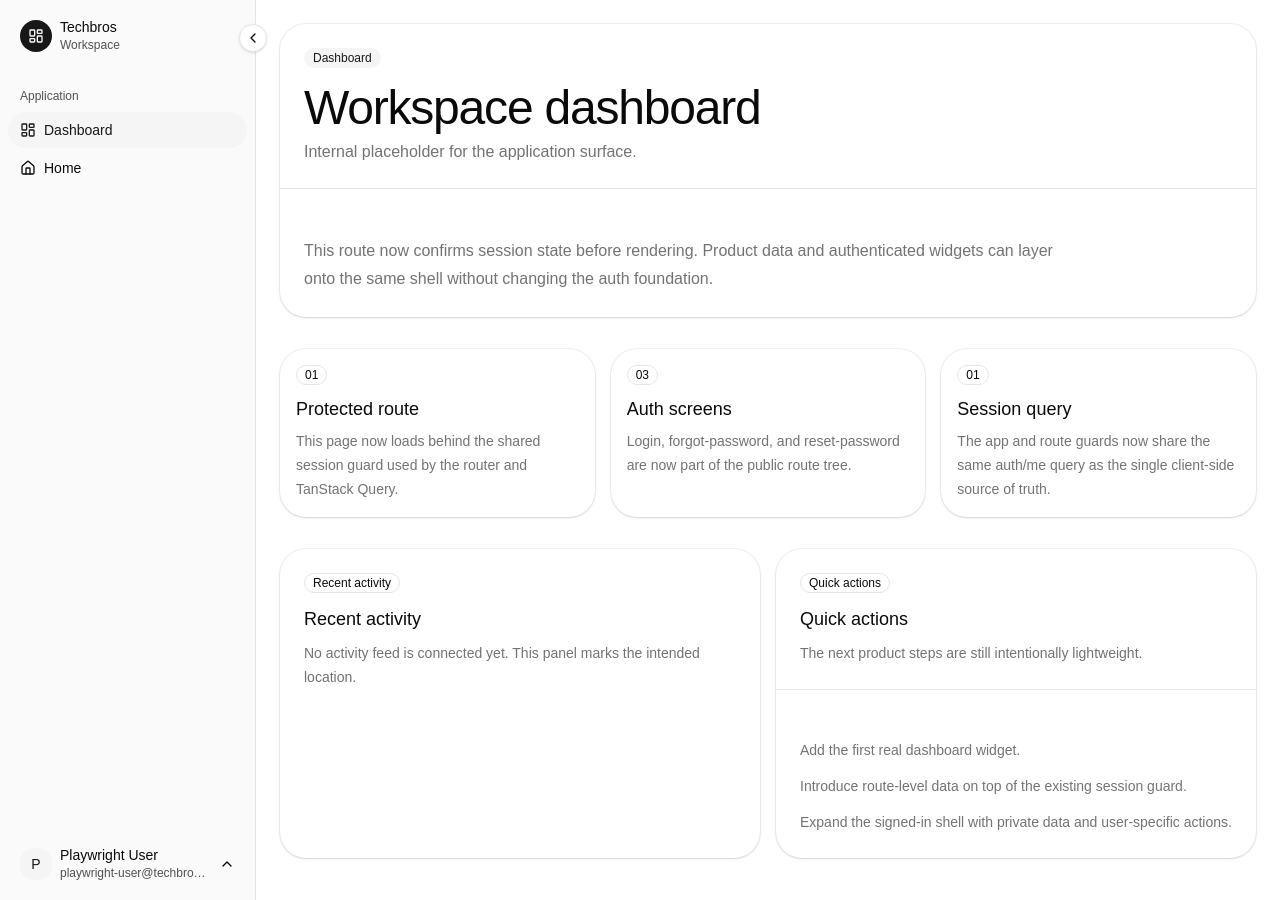
it: auth route guards › keeps authenticated users on the dashboard when logout fails
Click the button "P Playwright User playwright-user@techbros.local" at (128, 864), box [8,836,247,892]
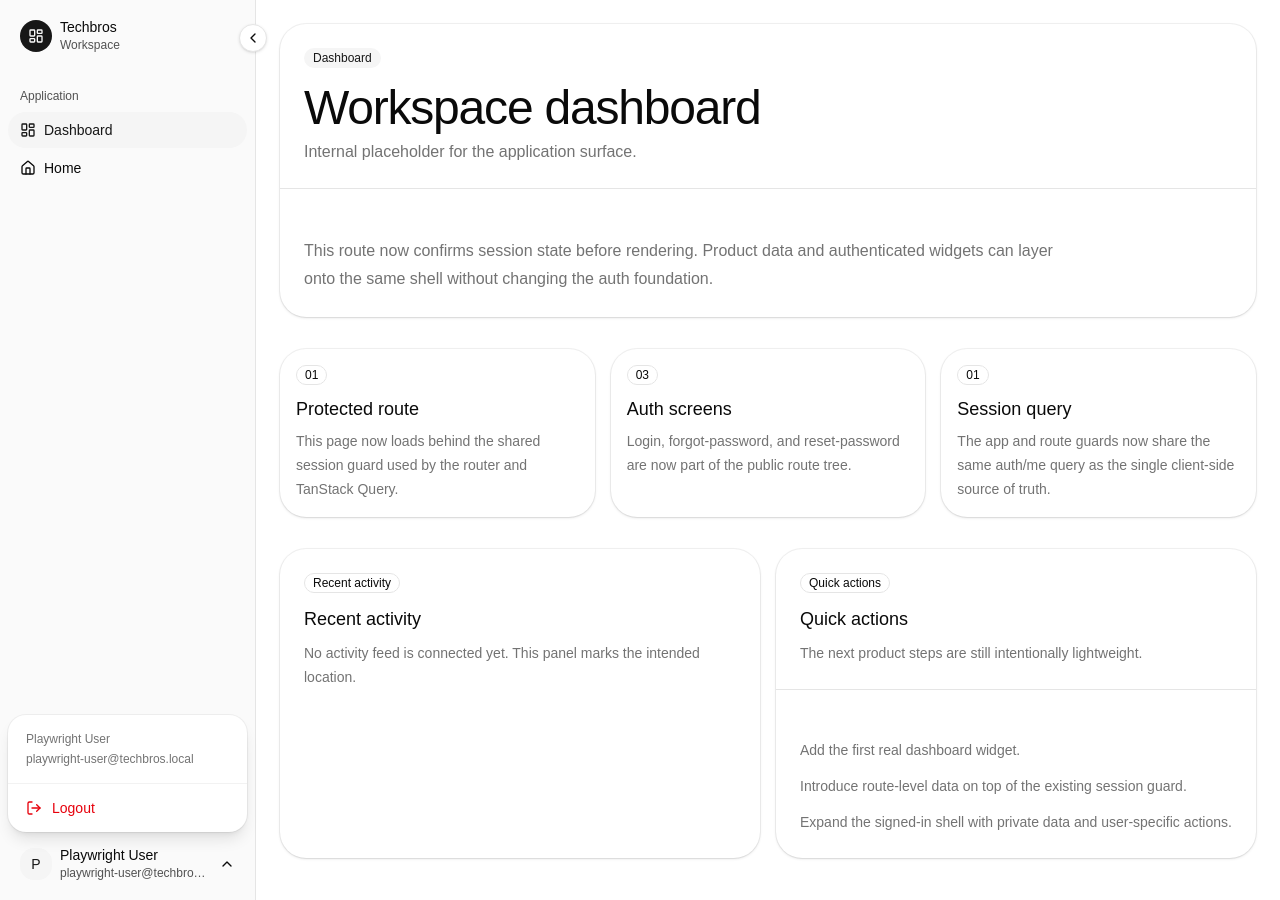
Click the menu item "Logout" at (60, 808), box [26,800,95,816]
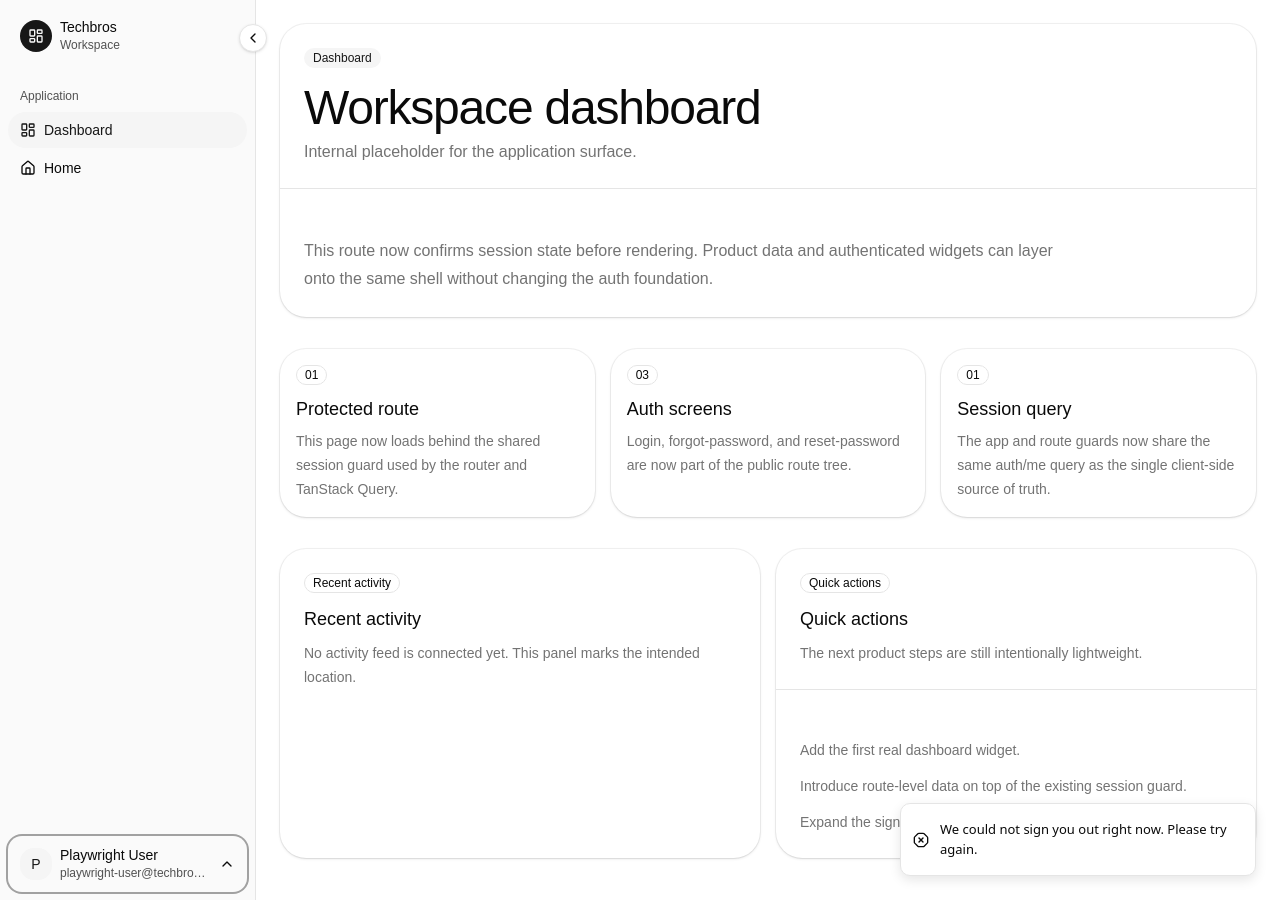
Expected: the text "Workspace dashboard" is shown, [304,81,761,134]
Now the text "We could not sign you out right now. Please try again." is shown, box [940,820,1239,859]
